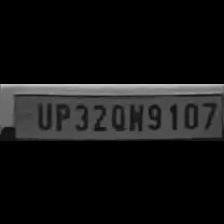0: (180, 98, 200, 130), (106, 100, 126, 130)
1: (164, 98, 181, 130)
2: (90, 99, 108, 131)
3: (70, 99, 90, 130)
7: (199, 97, 217, 129)
9: (143, 99, 163, 130)
N: (126, 99, 144, 131)
P: (51, 99, 70, 130)
U: (32, 98, 52, 130)
